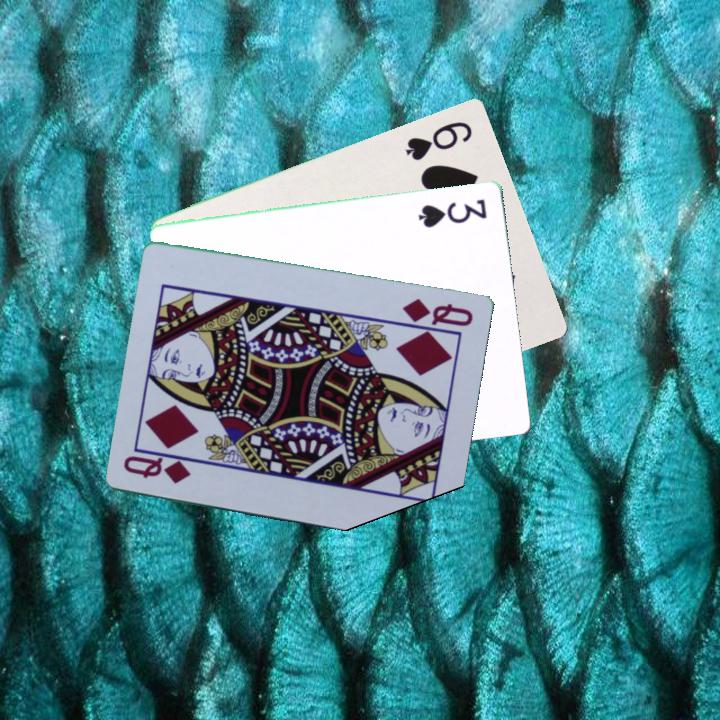3s: (415, 194, 490, 230)
6s: (402, 117, 476, 163)
Qd: (396, 294, 477, 335), (120, 451, 194, 487)
